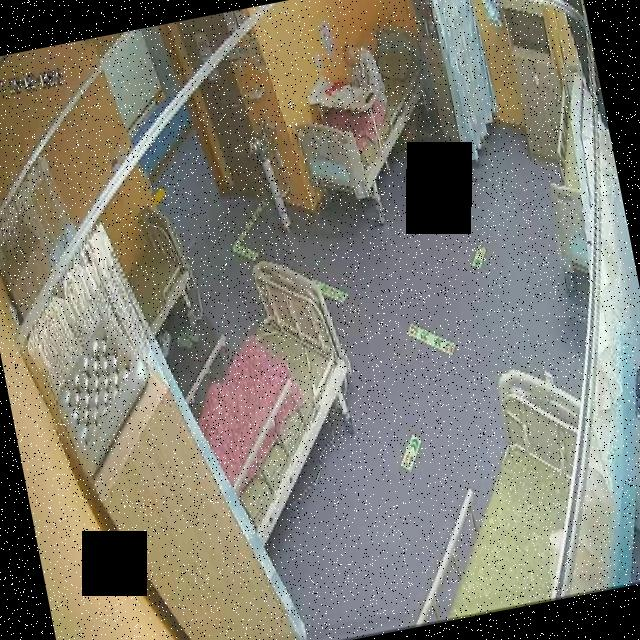bed: (374, 361, 618, 627), (171, 250, 378, 550), (278, 18, 452, 210), (114, 200, 201, 342)
patient: (338, 33, 390, 113)
sit: (340, 35, 389, 115)
